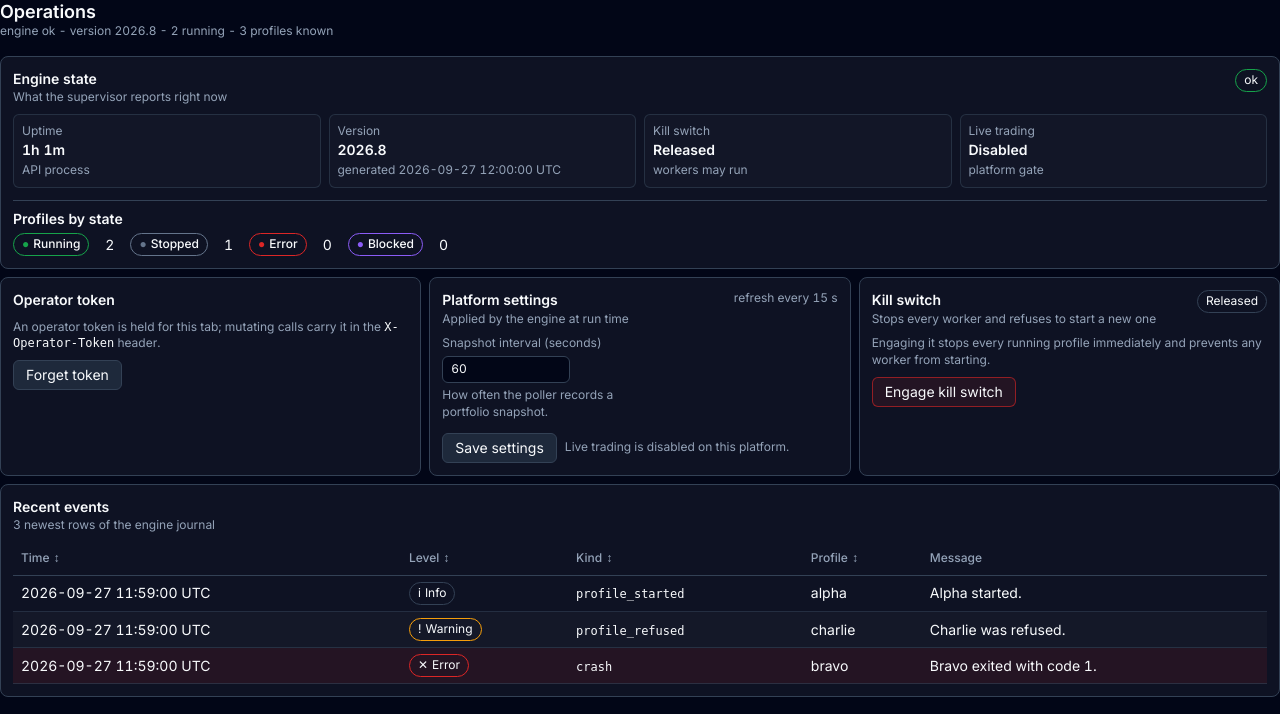
it: OperationsPage › surfaces the 401 of the API when a setting is saved without a token
Step 1. Replace the text in the number field labelled "Snapshot interval" with "30" → (506,370), box 442,356 -> 570,383
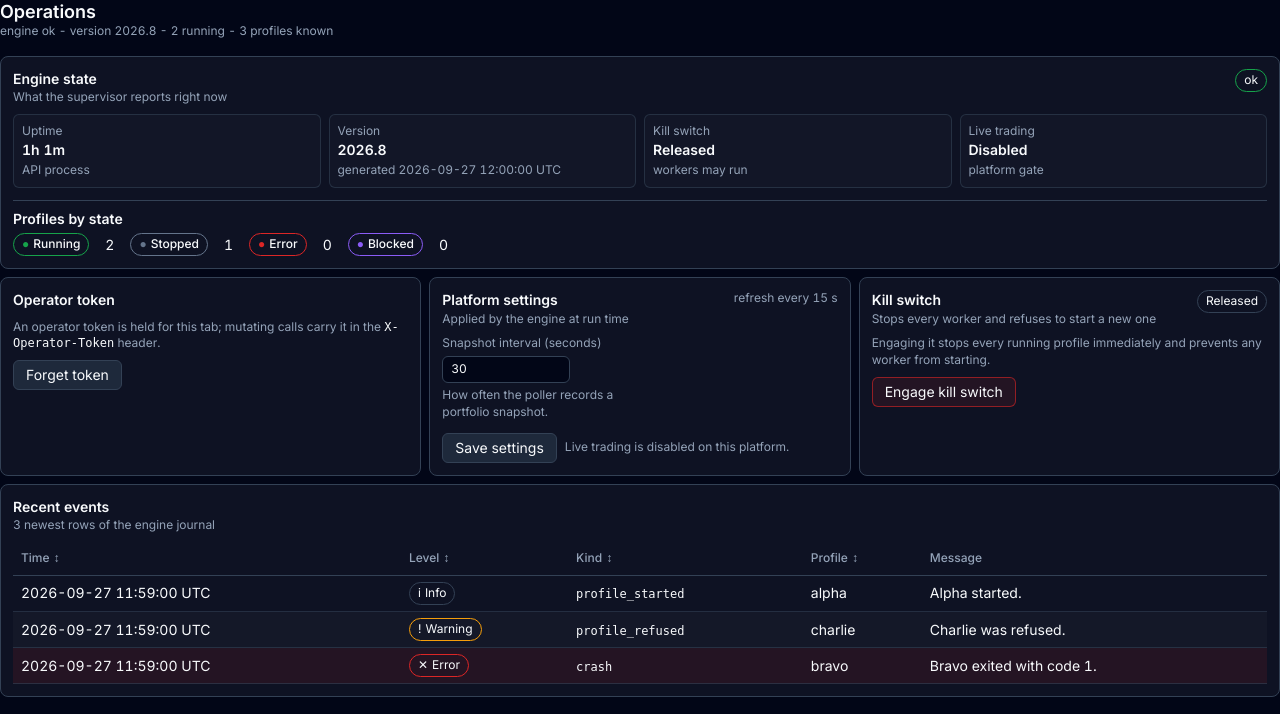
Step 2. Click the button "Save settings" → (500,448), box 442,432 -> 557,463
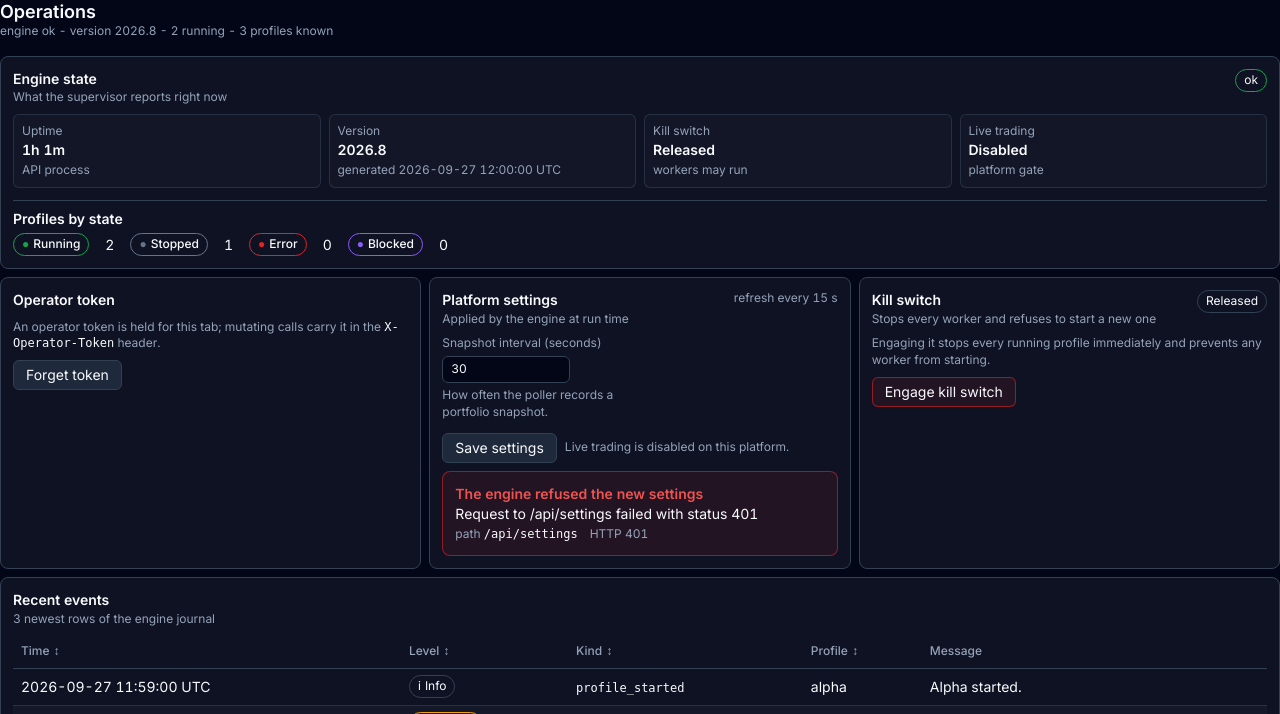
Now the text "The engine refused the new settings" is shown, box 455,485 -> 703,502
Now the text "HTTP 401" is shown, box 590,526 -> 648,543
